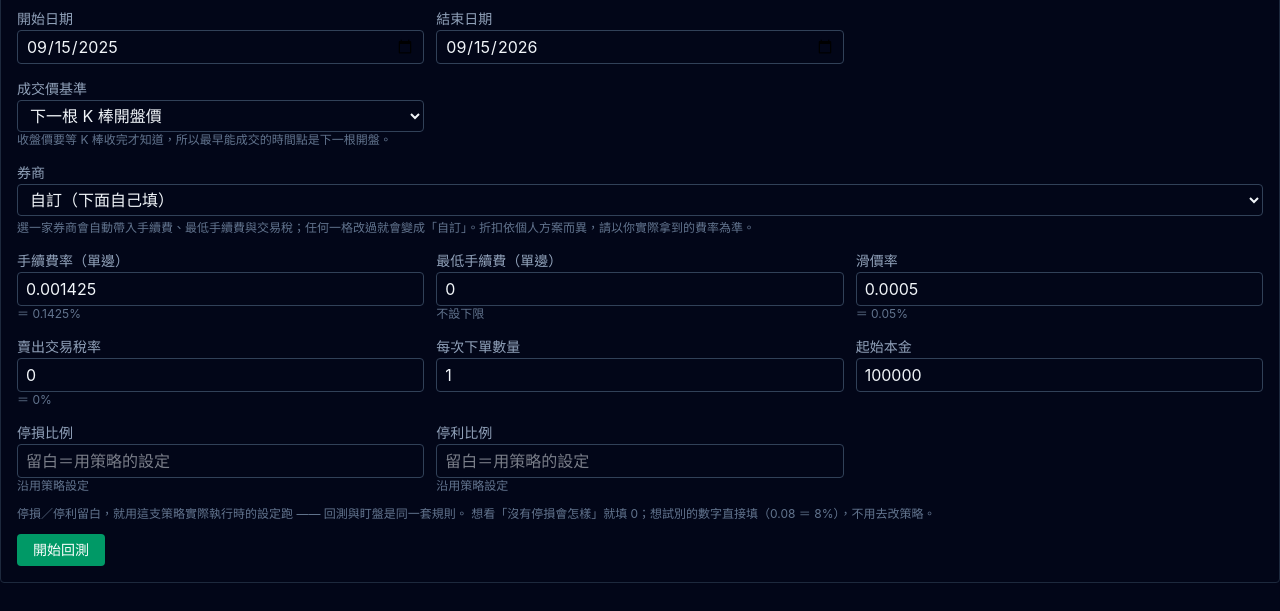
BacktestPage › lists the trades with losses marked apart from gains
What coordinates should you click on to do the following:
click the button "開始回測"
I would click on:
 (61, 550)
Its box is [17, 534, 105, 566].
(page scrolled)
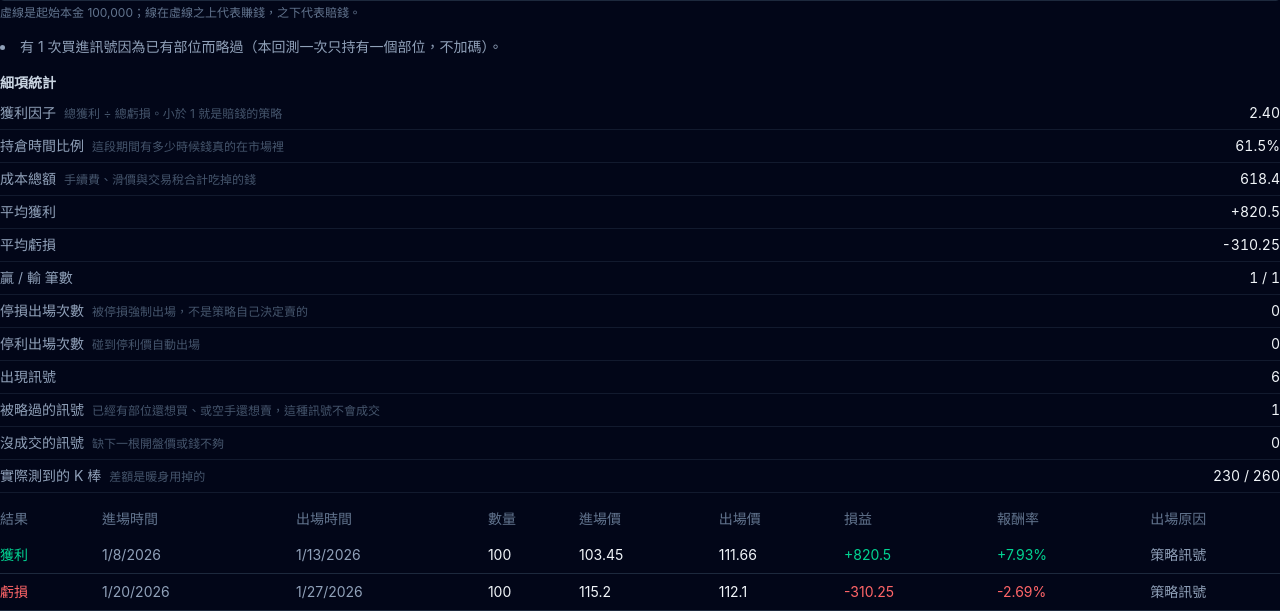
expect the text "獲利" is shown: met, box [0, 537, 102, 574]
expect the text "虧損" is shown: met, box [0, 574, 102, 610]
